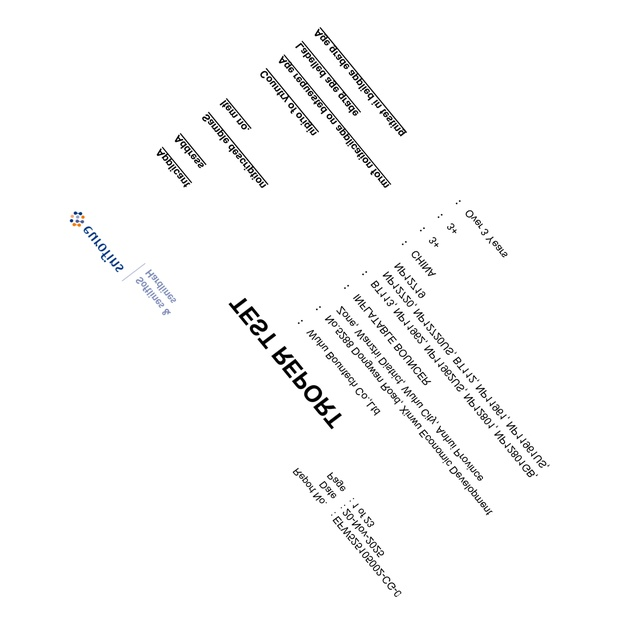eurofins: (65, 207, 126, 274)
